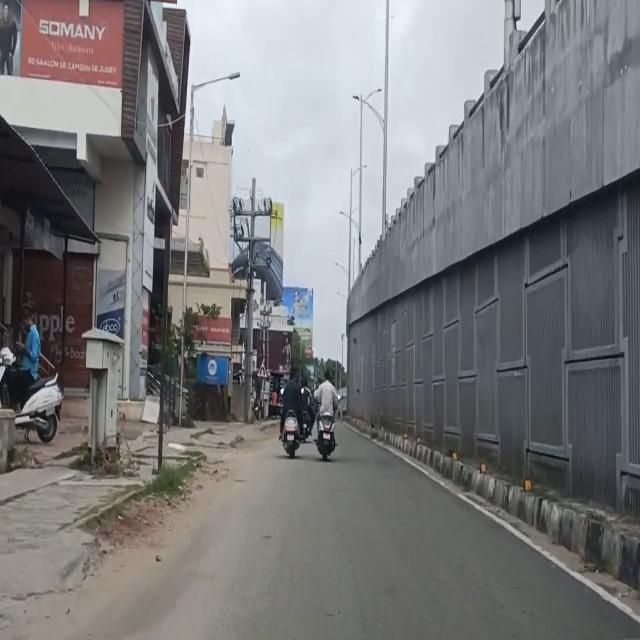bien_nguy_hiem: (256, 359, 268, 378)
